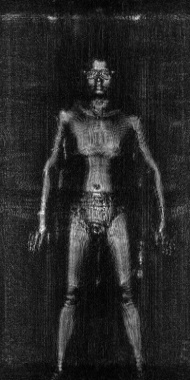gun: (132, 235, 155, 281)
